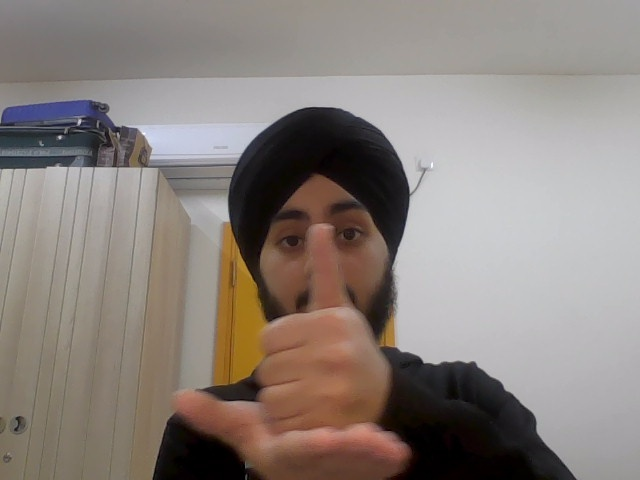Help: (178, 218, 418, 467)
